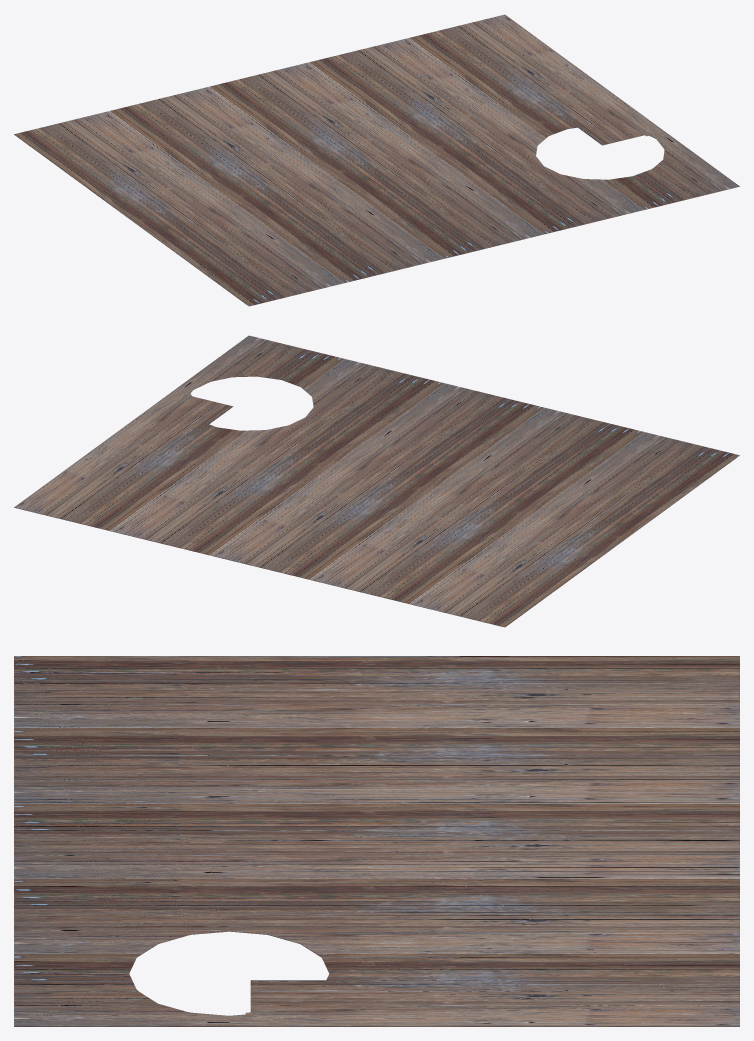
The model's file is IndoorArchitecture_Floor_BShortt.fbx.
The picture shows the model from 3 angles, top to bottom: view 1: azimuth 30°, elevation 25°; view 2: azimuth 150°, elevation 25°; view 3: azimuth 270°, elevation 25°; orthographic projection. The views are drawn at different scales.
Parts seen in each view (by area): view 1: IndoorArchitecture_Floor_BShortt; view 2: IndoorArchitecture_Floor_BShortt; view 3: IndoorArchitecture_Floor_BShortt.
Boxes of the visible parts, <box> form: IndoorArchitecture_Floor_BShortt: <box>14,14,739,306</box>; IndoorArchitecture_Floor_BShortt: <box>14,335,739,627</box>; IndoorArchitecture_Floor_BShortt: <box>14,656,739,1026</box>.
Size of the model in its own units: 1750 by 1 by 1450.
Materials: 1 (1 with a texture image).
